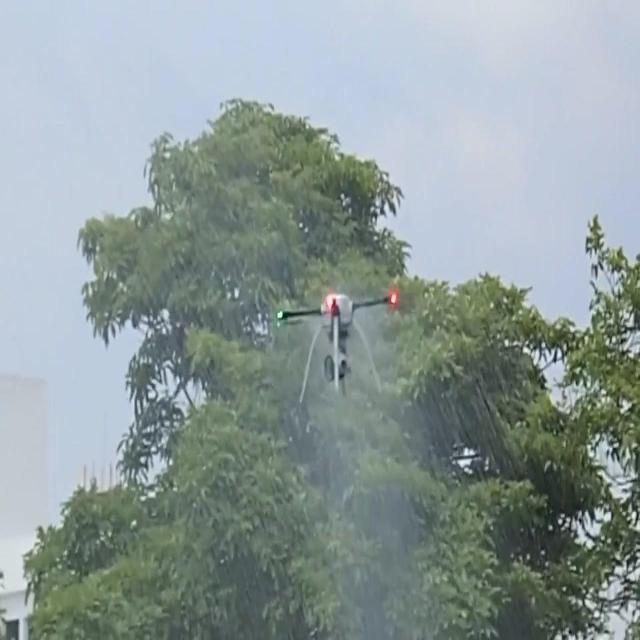drone: (273, 290, 397, 404)
